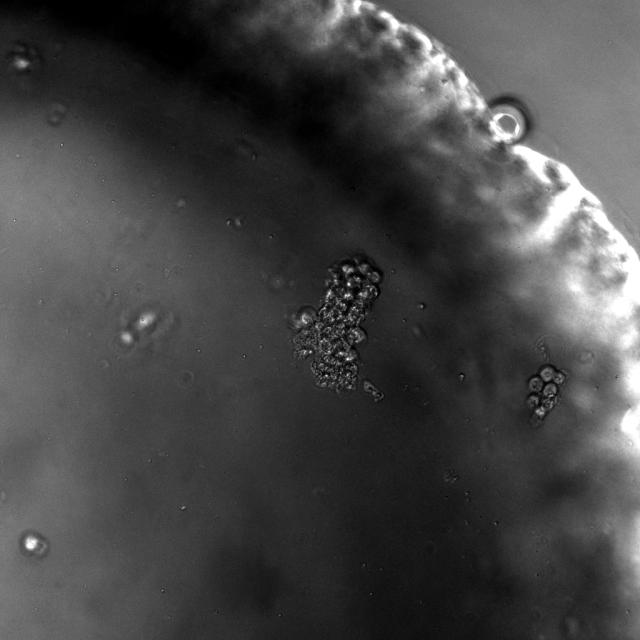organoid: (286, 256, 381, 392), (525, 363, 570, 427), (115, 309, 158, 352), (534, 334, 564, 364), (19, 530, 49, 559), (362, 379, 384, 401), (458, 373, 464, 381)
